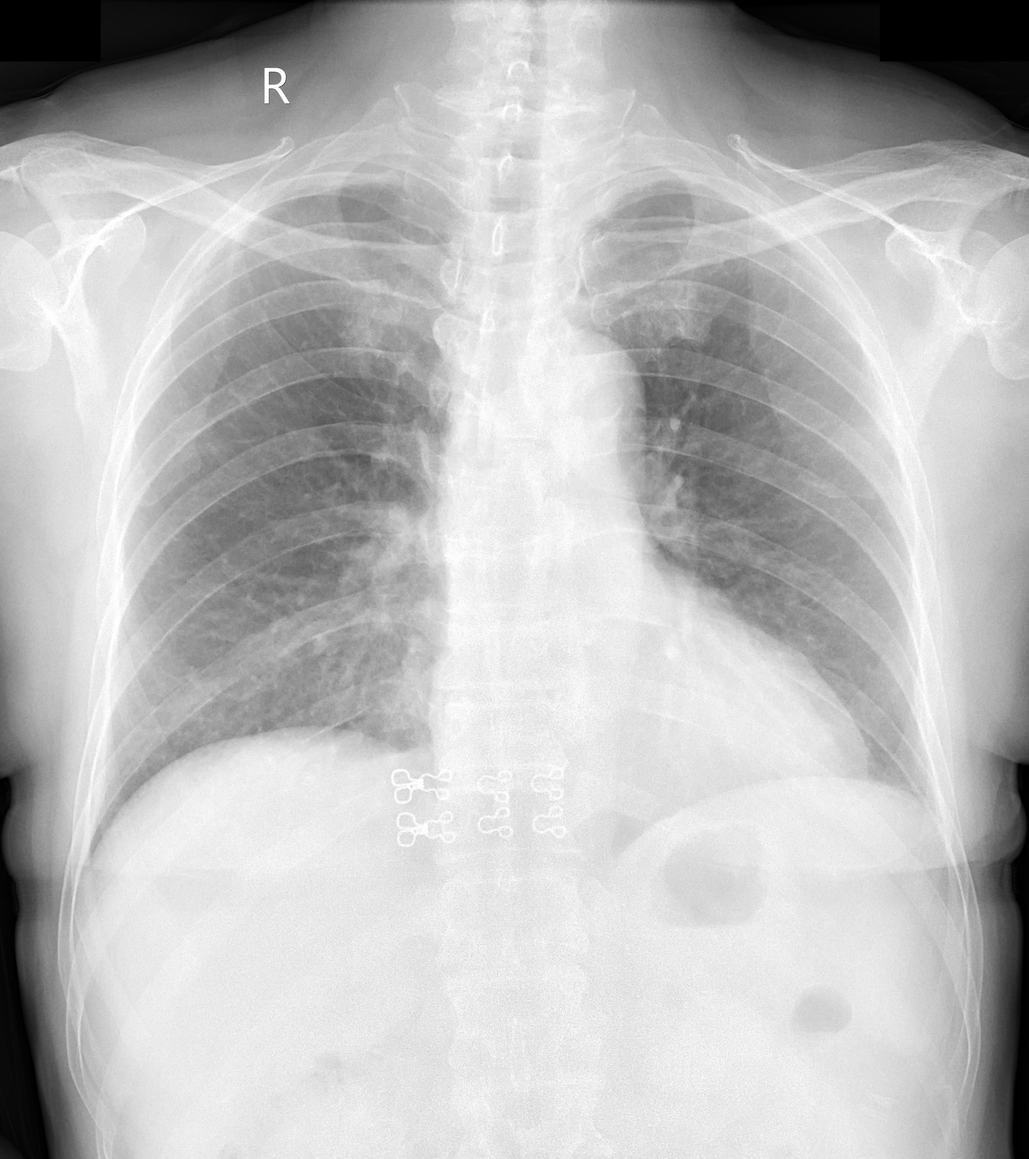Aortic enlargement: (527, 331, 644, 440)
